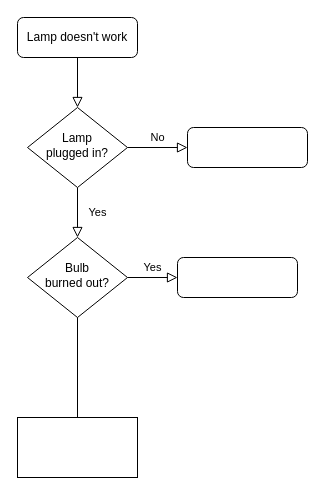
Some shapes in this 325 by 495 pixel diagram are drawn without their labels. Each missing label, with the centre of its shape:
"Plug in lamp" goes at (x=247, y=147).
"Replace Bulb" goes at (x=237, y=277).
